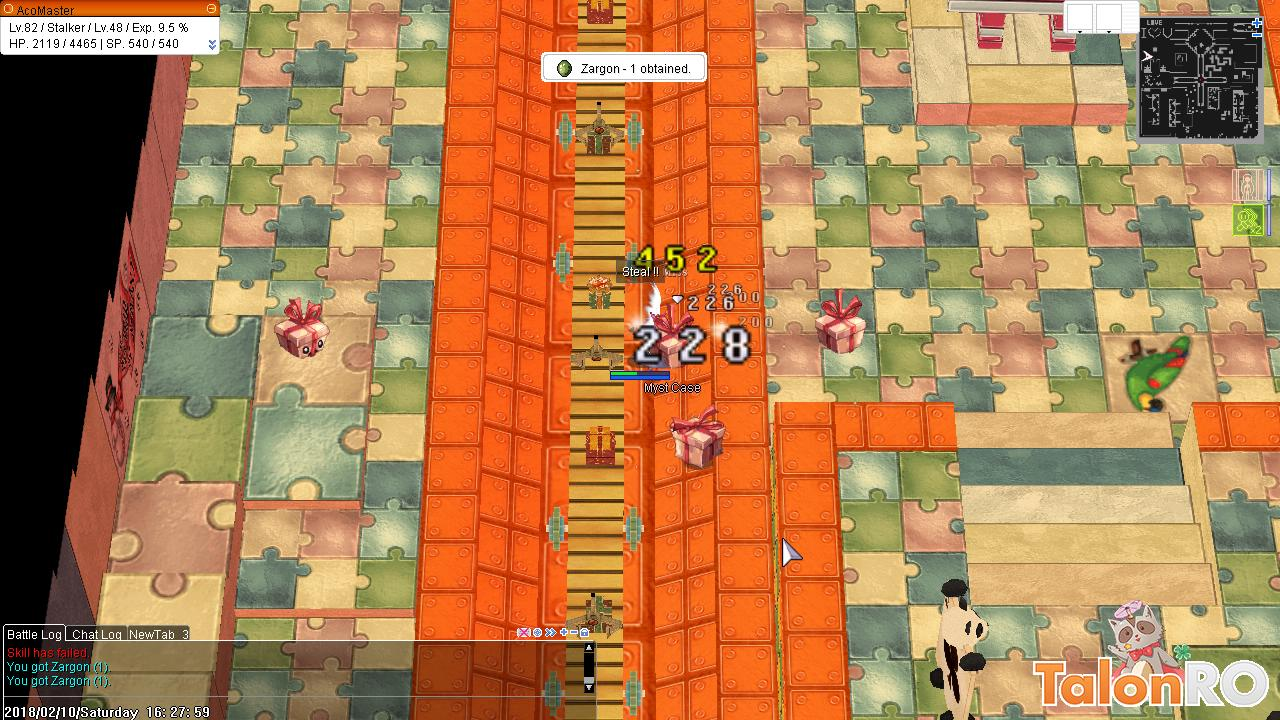myst_case: (807, 285, 869, 360), (667, 403, 731, 475), (270, 292, 332, 366), (655, 304, 694, 369)
